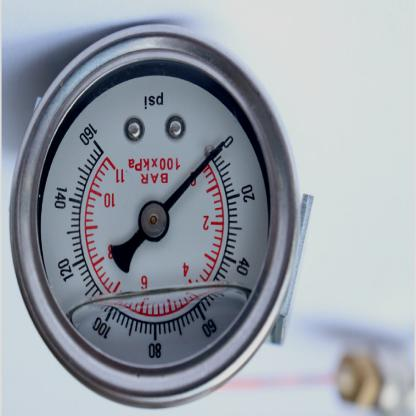needle: (163, 140, 226, 213)
